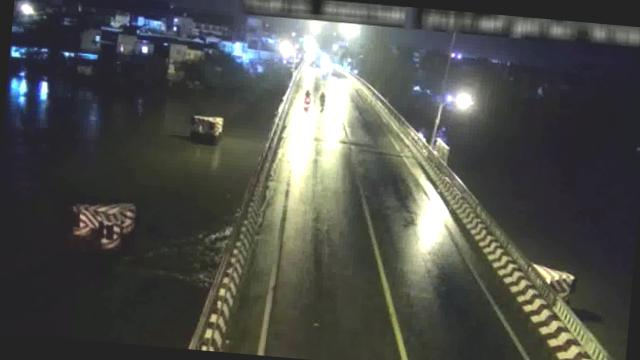Bike: (316, 90, 329, 112), (302, 88, 312, 109)
